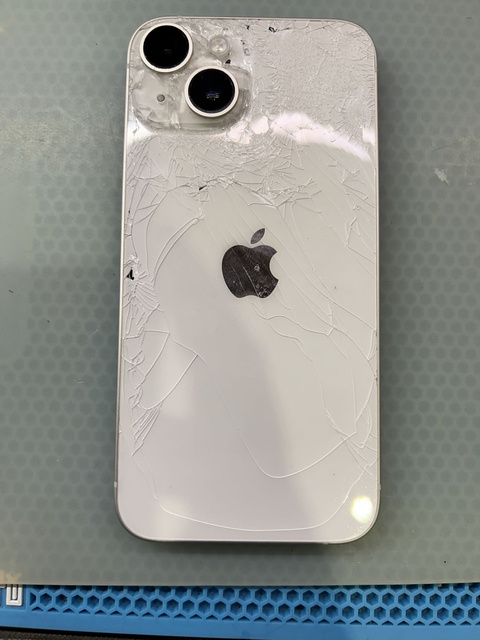crack_phone: (114, 11, 402, 563)
